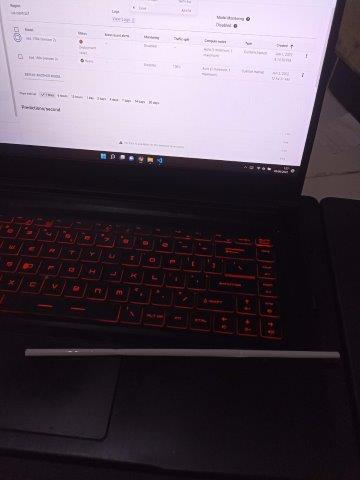sedotan: (25, 348, 340, 359)
